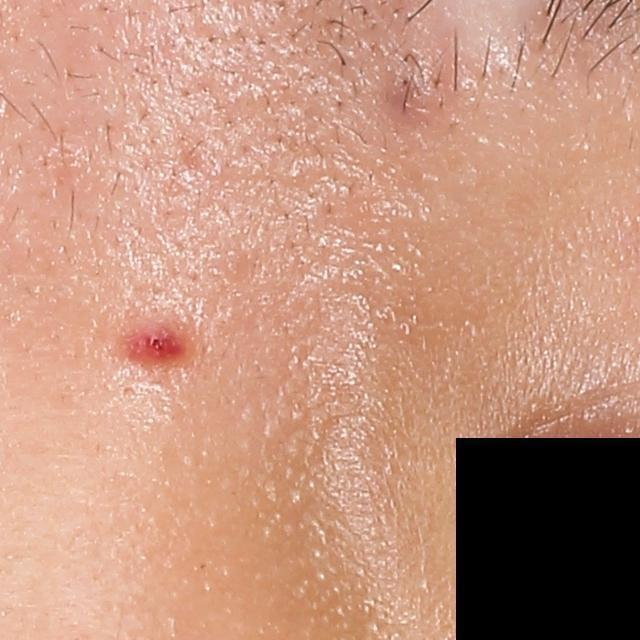papule: (114, 324, 195, 369)
